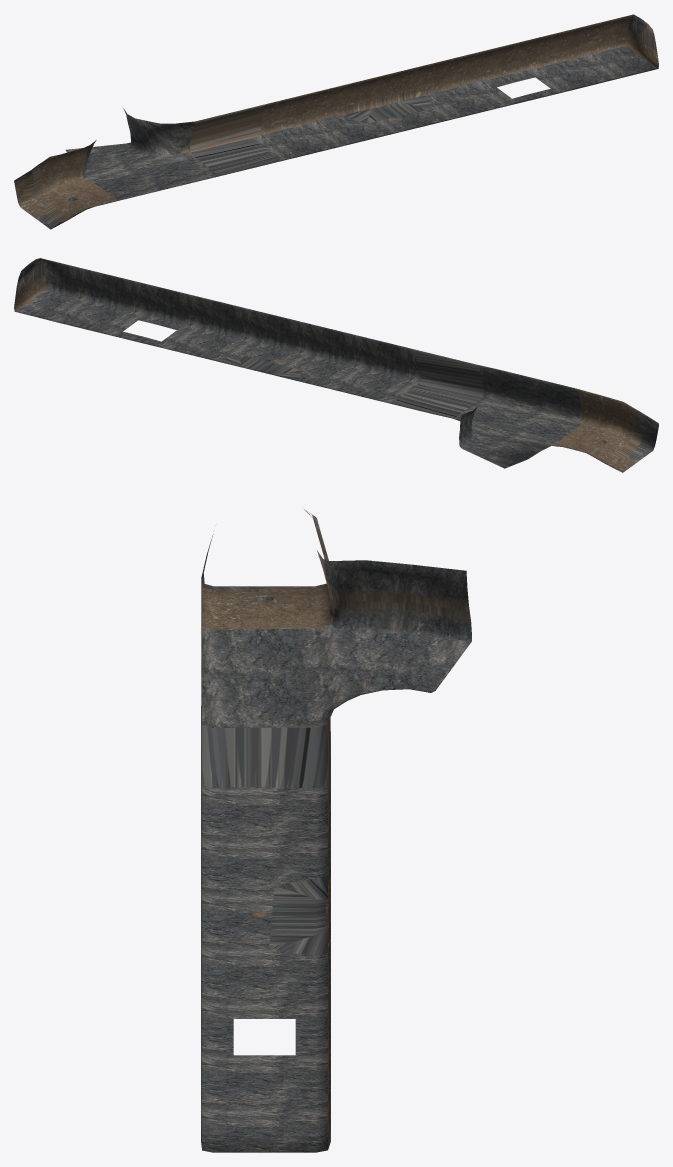
Rendered from SlopeA.glb.
3 views of the same model, one above another, from view 1: azimuth 30°, elevation 25°; view 2: azimuth 150°, elevation 25°; view 3: azimuth 270°, elevation 25° (orthographic). The views are drawn at different scales.
Parts seen in each view (by area): view 1: SlopeA; view 2: SlopeA; view 3: SlopeA.
Boxes of the visible parts, x1,y1,x2,y2 form: SlopeA: (14, 14, 658, 229); SlopeA: (14, 258, 658, 472); SlopeA: (201, 509, 471, 1152).
Bounding box in the file's own units: 34.57 × 2.85 × 6.56.
1 material, 1 textured.
